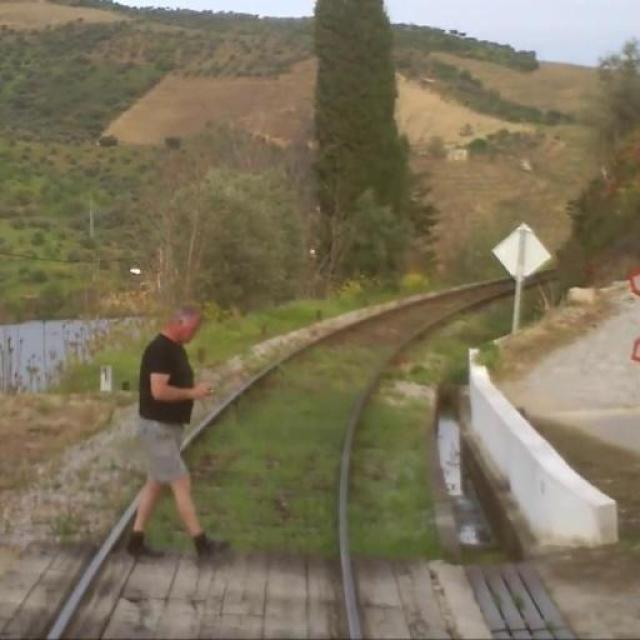people: (132, 305, 236, 566)
